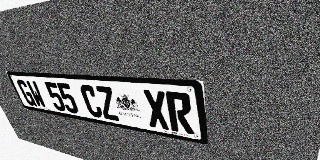5: (56, 83, 80, 114), (44, 82, 67, 112)
C: (79, 84, 104, 119)
G: (16, 79, 37, 107)
R: (165, 91, 194, 135)
W: (25, 80, 48, 108)
X: (142, 89, 171, 130)
Z: (94, 86, 120, 121)
